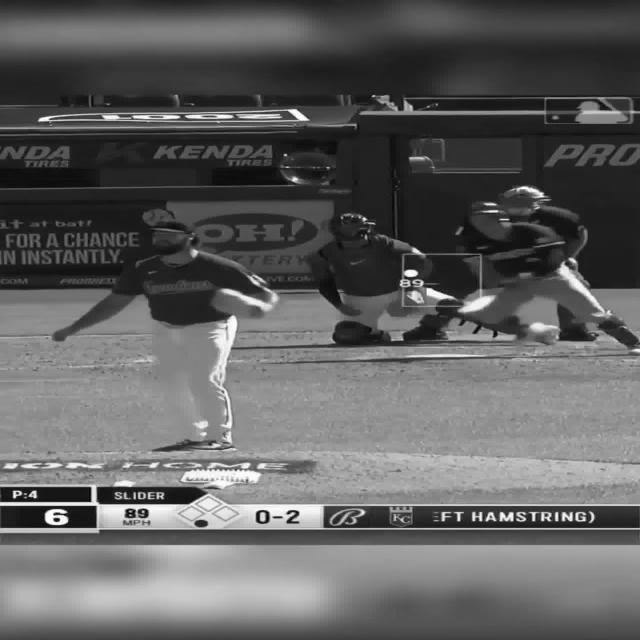baseball_glove: (212, 292, 265, 318)
shoe: (516, 322, 560, 346), (152, 439, 232, 452), (402, 326, 448, 340), (557, 329, 597, 341), (627, 343, 639, 354)
